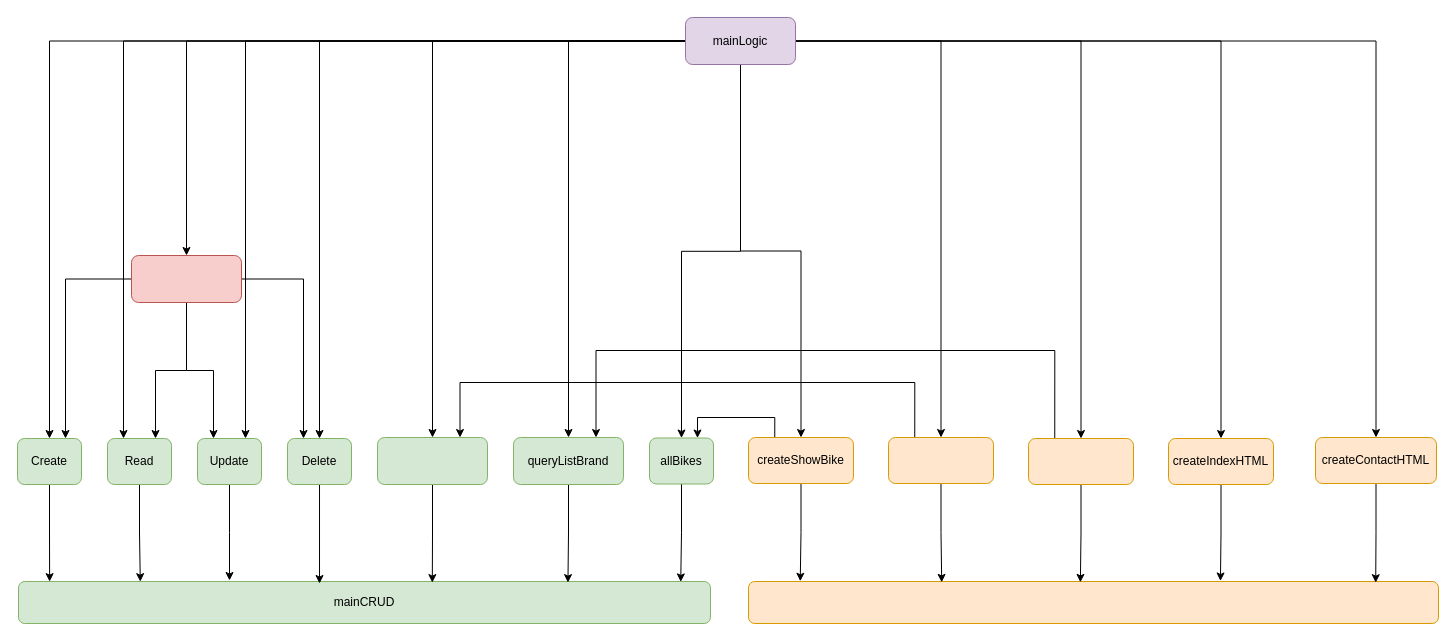
Some shapes in this 1456 by 641 pixel diagram are drawn without their labels. Each missing label, with the box of its shape:
adminProgram: (130, 254, 242, 302)
createHTML: (748, 580, 1438, 624)
createListBrand: (1028, 438, 1134, 484)
createListCategory: (888, 436, 994, 484)
queryListCategory: (376, 436, 488, 484)
